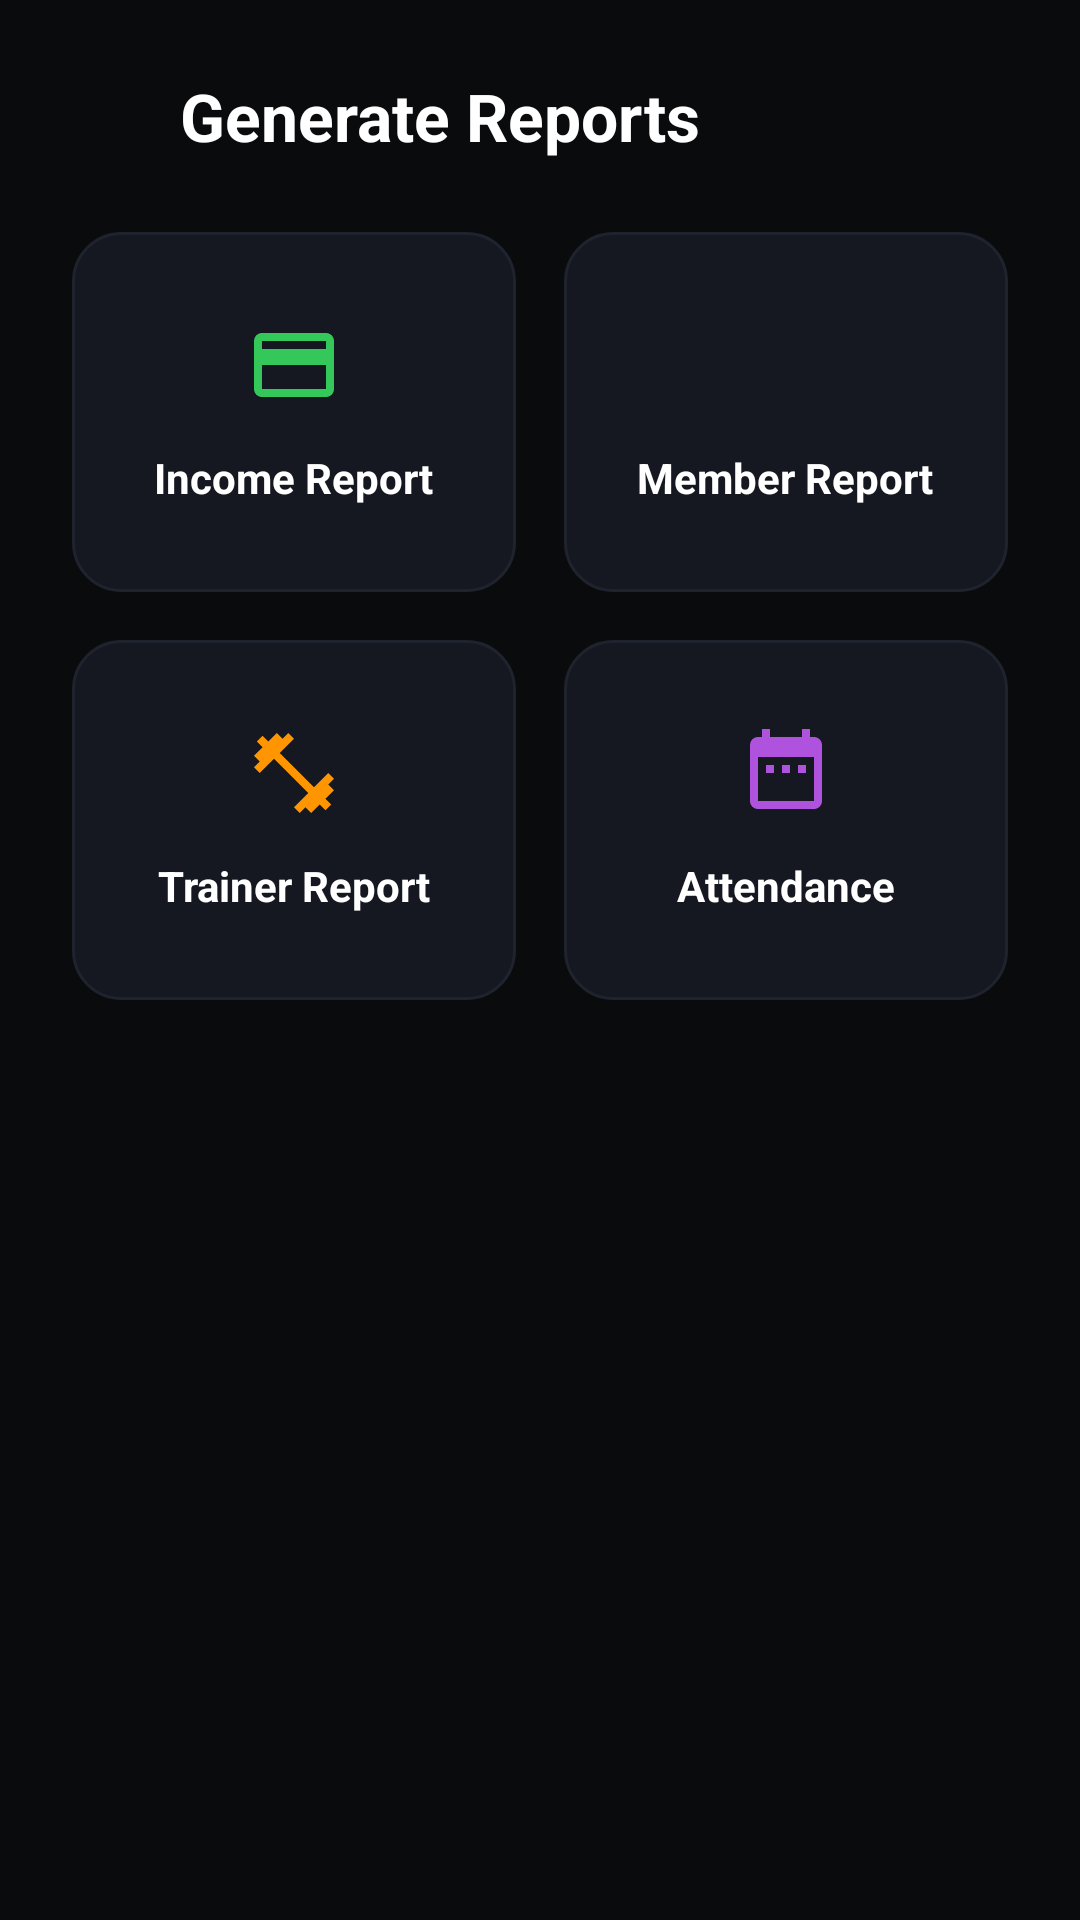

Screen size 1080px x 1920px. Icon name, then its center in pixels as (x,y):
calendar: (786,769)
fitness: (294,773)
payment: (294,365)
